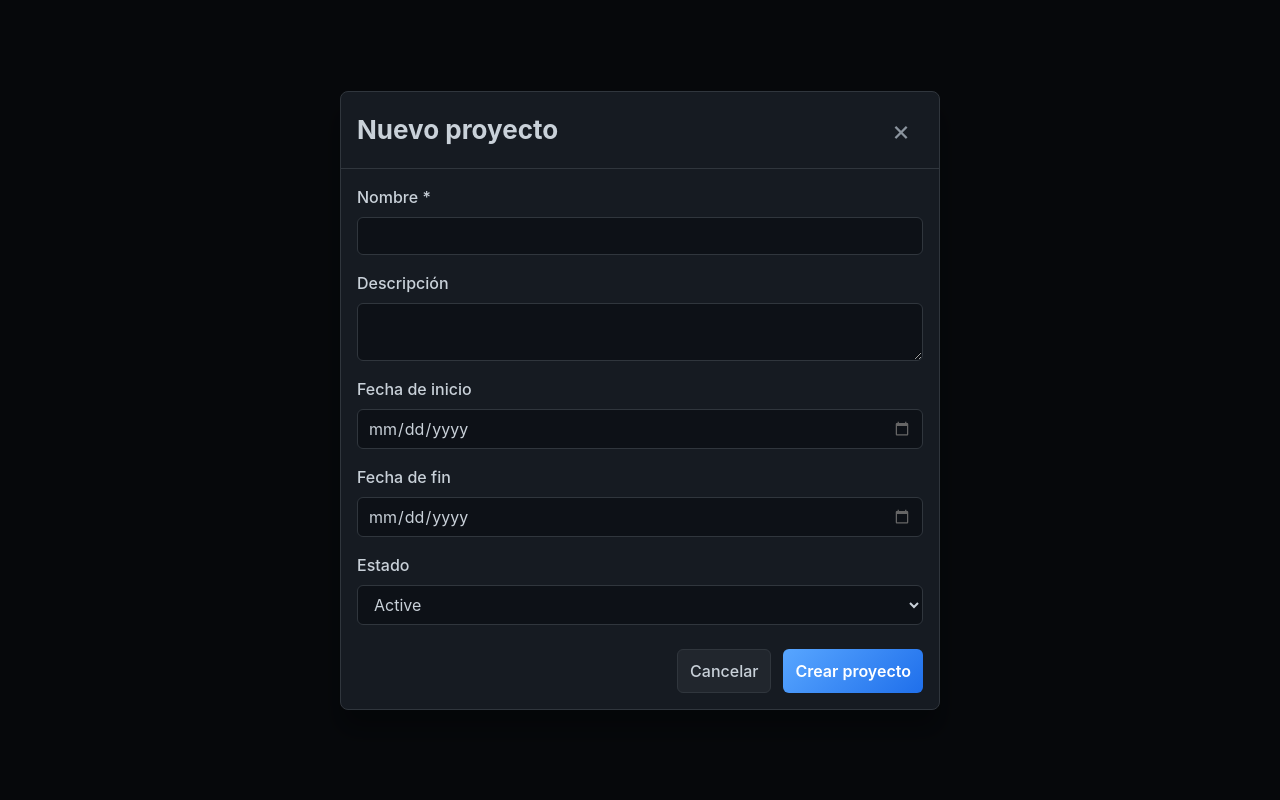
Test: ProjectFormModal › shows error when submitting with empty name
Click the button "Crear proyecto": (853, 670) [784,648,923,692]
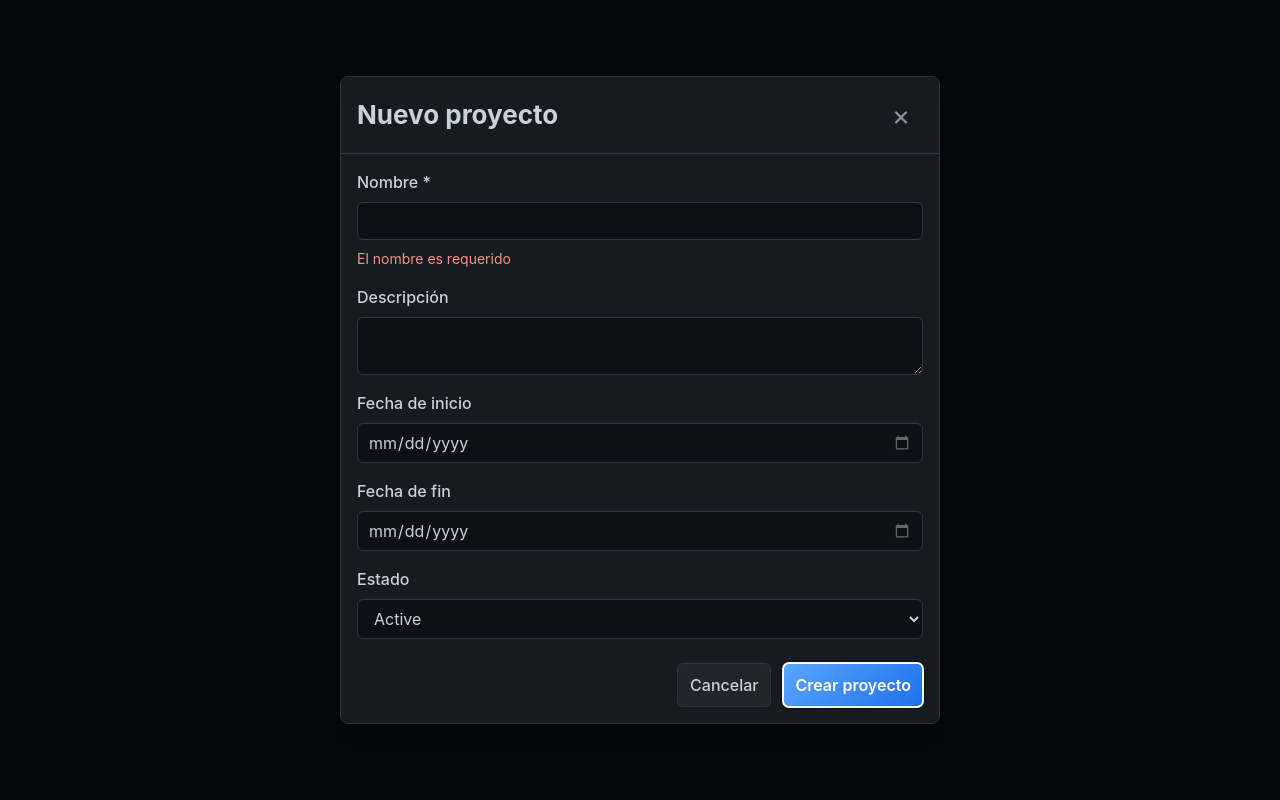
Check: the text "El nombre es requerido" is shown, box [357,250,511,267]
